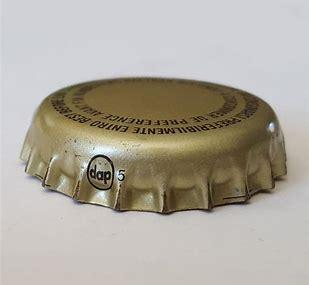metal: (20, 78, 287, 214)
